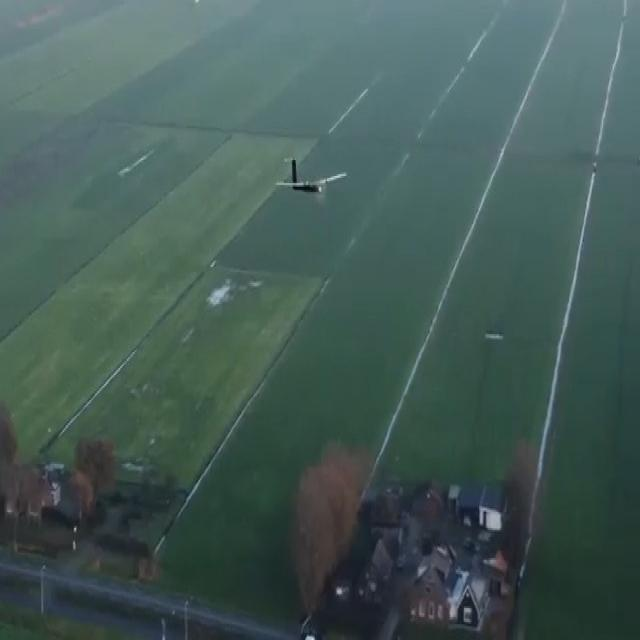drones: (274, 150, 348, 220)
